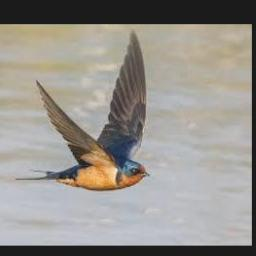Swallow: (15, 29, 151, 190)
